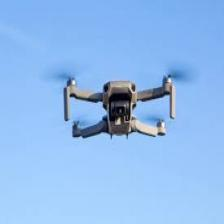drone: (43, 59, 198, 150)
